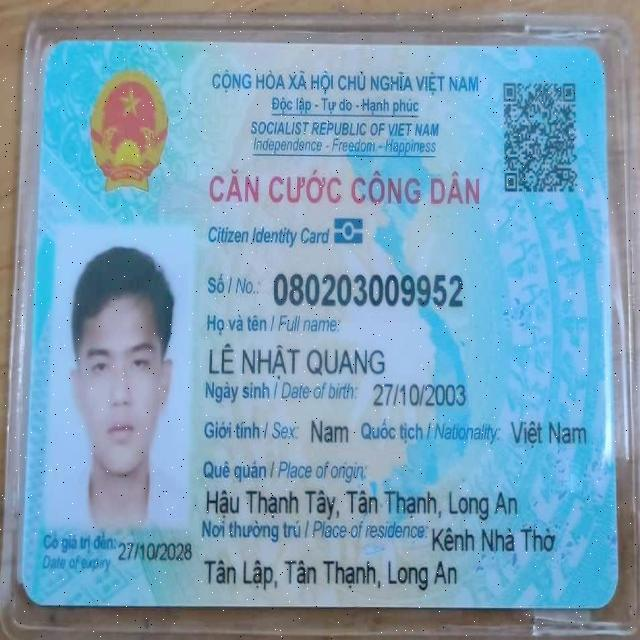current_place: (201, 555, 459, 596), (429, 523, 558, 556)
dob: (371, 380, 468, 410)
expire_date: (116, 537, 194, 567)
gender: (309, 417, 350, 447)
id: (270, 267, 466, 313)
name: (207, 339, 388, 382)
nationality: (509, 418, 588, 450)
origin_place: (204, 484, 519, 523)
